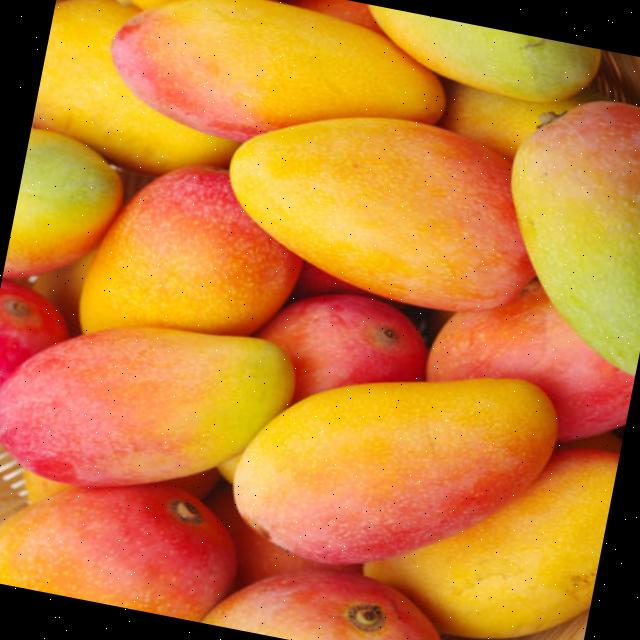mango: (233, 377, 556, 564), (231, 118, 534, 310), (364, 448, 617, 638), (111, 0, 445, 142), (0, 326, 294, 486), (79, 165, 302, 335), (33, 0, 238, 174), (511, 100, 640, 373), (0, 483, 237, 622), (425, 284, 633, 441), (368, 4, 601, 101), (258, 293, 428, 400), (3, 129, 123, 277), (200, 568, 438, 640)
